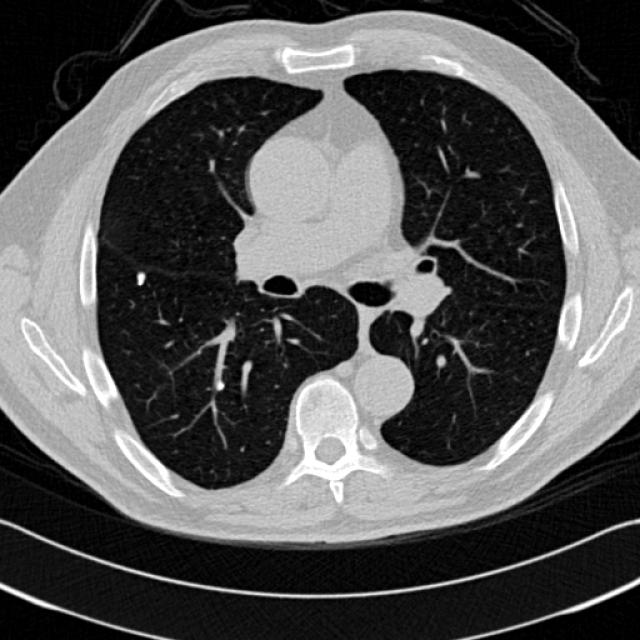nodule: (126, 264, 154, 291)
